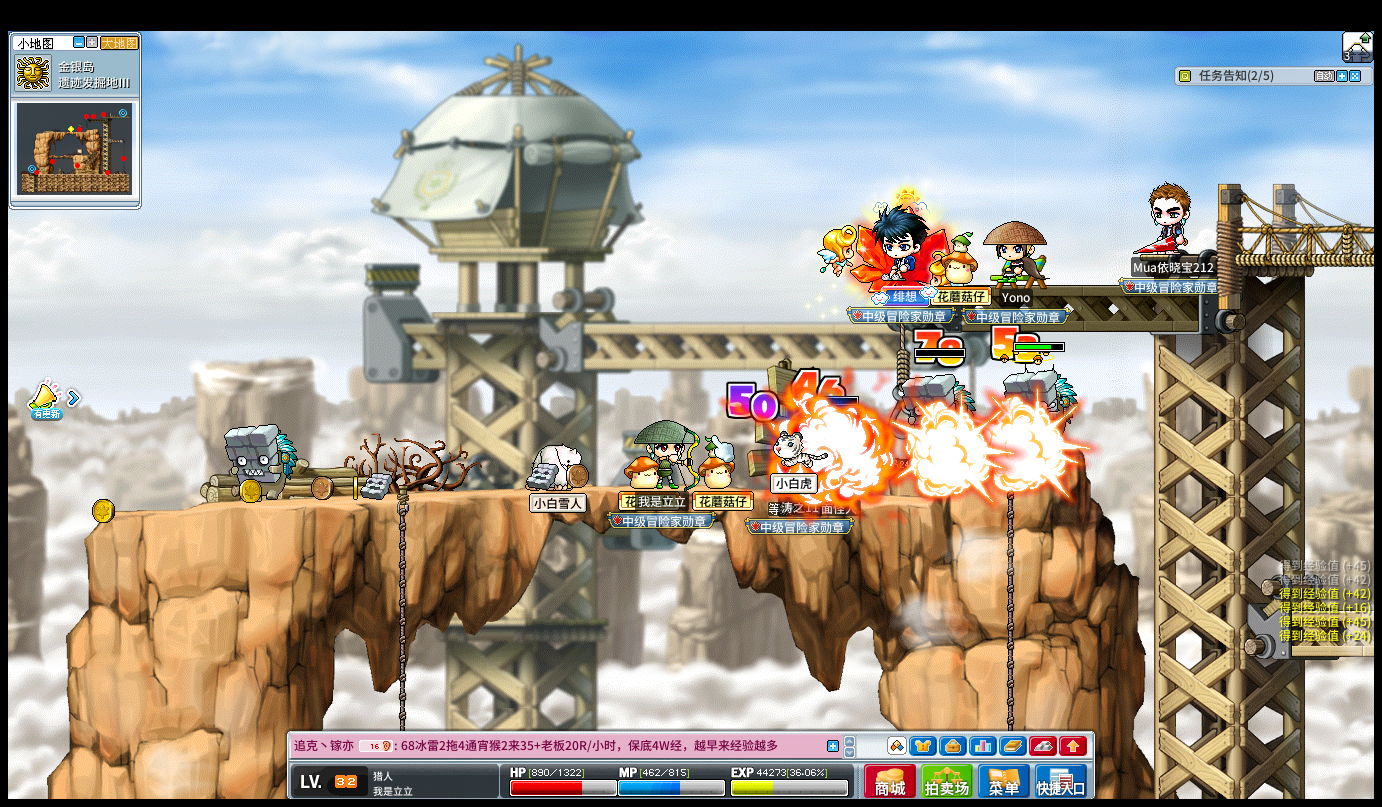floor: (91, 480, 835, 512), (98, 483, 874, 506), (97, 485, 945, 498), (1218, 220, 1379, 234)
monster: (223, 424, 297, 504), (894, 367, 967, 414), (1017, 366, 1076, 417)
rope: (394, 483, 408, 763), (1003, 493, 1017, 709), (395, 482, 408, 696)
